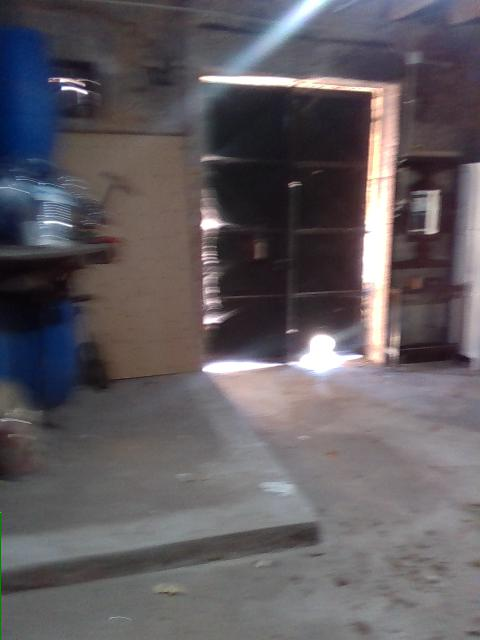closed_door: (190, 72, 401, 380)
